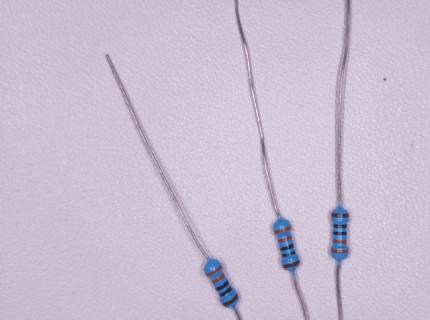Orange band: (206, 265, 224, 277), (274, 225, 292, 234), (212, 273, 226, 284), (278, 236, 293, 243), (331, 248, 349, 253), (333, 239, 347, 244)
